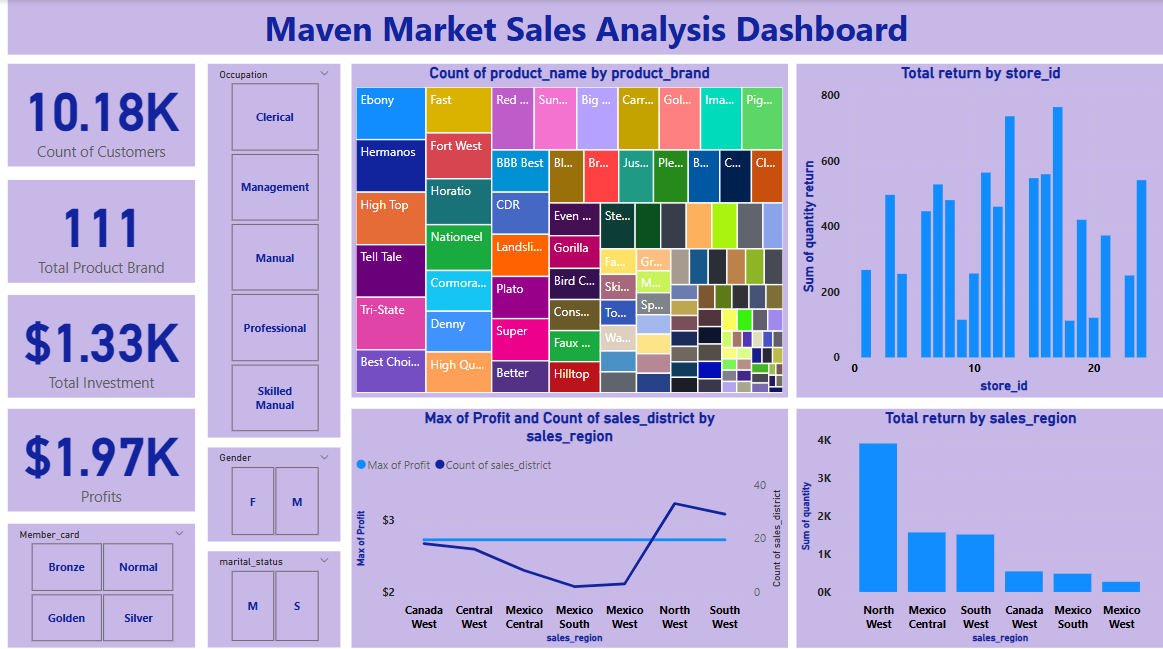

What the dashboard file says about the page in this screenshot:
{"tool":"powerbi","page":{"name":"Page 1","canvas":[1280,720],"ordinal":0},"visuals":[{"type":"card","fields":{"Values":["Count(MavenMarket_Customers.Full Name)"]},"box":[9.6,70,205.8,112.5],"z":0},{"type":"card","fields":{"Values":["Count(MavenMarket_Products.product_brand)"]},"box":[9.6,197.6,205.8,112.5],"z":1},{"type":"slicer","fields":{"Values":["MavenMarket_Customers.gender"]},"box":[229.2,491.3,145.5,102.9],"z":2},{"type":"slicer","fields":{"Values":["MavenMarket_Customers.member_card"]},"box":[9.6,575,205.8,135.8],"z":3},{"type":"slicer","fields":{"Values":["MavenMarket_Customers.occupation"]},"box":[229.2,70,145.5,410.3],"z":4},{"type":"card","fields":{"Values":["MavenMarket_Products.Profits"]},"box":[9.6,448.7,205.8,112.5],"z":5},{"type":"card","fields":{"Values":["MavenMarket_Products.Investment"]},"box":[9.6,323.8,205.8,112.5],"z":6},{"type":"textbox","box":[9.3,0,1270.7,60.4],"z":7},{"type":"columnChart","title":"Total return by store_id","fields":{"Category":["MavenMarket_Returns_1997-1998.store_id"],"Y":["Sum(MavenMarket_Returns_1997-1998.quantity)"]},"box":[875.5,70,404.8,366.4],"z":8},{"type":"treemap","fields":{"Group":["MavenMarket_Products.product_brand"],"Values":["Count(MavenMarket_Products.product_name)"]},"box":[387,70,478.9,366.4],"z":9},{"type":"lineChart","fields":{"Category":["MavenMarket_Regions.sales_region"],"Y2":["CountNonNull(MavenMarket_Regions.sales_district)"],"Y":["Max(MavenMarket_Products.Profit)"]},"box":[387,448.7,478.9,262.1],"z":10},{"type":"columnChart","title":"Total return by sales_region","fields":{"Category":["MavenMarket_Regions.sales_region"],"Y":["Sum(MavenMarket_Returns_1997-1998.quantity)"]},"box":[875.5,448.7,404.8,262.1],"z":11},{"type":"slicer","fields":{"Values":["MavenMarket_Customers.marital_status"]},"box":[229.2,605.1,145.5,105.7],"z":12}]}

Visuals, with their boxes in screenshot pixels (x1, y1, x2, y2), scaled from the page's 1280x720 canvas onto the 1163x649 screenshot:
card - Count(MavenMarket_Customers.Full Name): left=9, top=63, right=196, bottom=165
card - Count(MavenMarket_Products.product_brand): left=9, top=178, right=196, bottom=280
slicer - MavenMarket_Customers.gender: left=208, top=443, right=340, bottom=536
slicer - MavenMarket_Customers.member_card: left=9, top=518, right=196, bottom=641
slicer - MavenMarket_Customers.occupation: left=208, top=63, right=340, bottom=433
card - MavenMarket_Products.Profits: left=9, top=404, right=196, bottom=506
card - MavenMarket_Products.Investment: left=9, top=292, right=196, bottom=393
textbox: left=8, top=0, right=1162, bottom=54
"Total return by store_id" columnChart: left=795, top=63, right=1162, bottom=393
treemap - MavenMarket_Products.product_brand x Count(MavenMarket_Products.product_name): left=352, top=63, right=787, bottom=393
lineChart - MavenMarket_Regions.sales_region x CountNonNull(MavenMarket_Regions.sales_district): left=352, top=404, right=787, bottom=641
"Total return by sales_region" columnChart: left=795, top=404, right=1162, bottom=641
slicer - MavenMarket_Customers.marital_status: left=208, top=545, right=340, bottom=641
